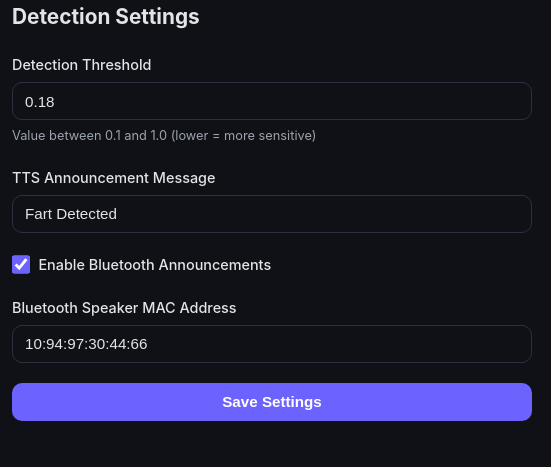
Test: SettingsForm component › edge case: shows error when TTS message is empty
Step 1. Clear the field labelled "TTS Announcement Message" → (272, 214), box [12,195,532,233]
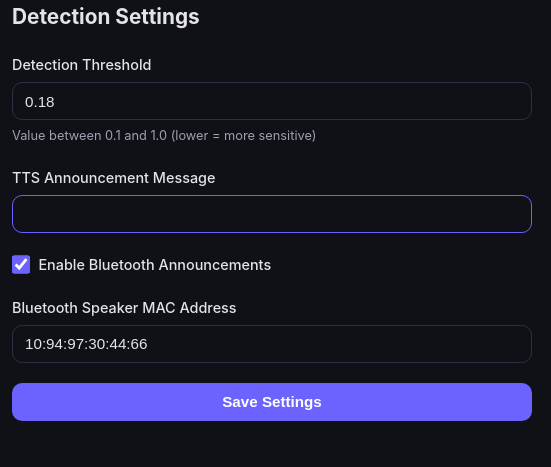
Step 2. Click the button "Save Settings" → (272, 402), box [12,383,532,421]
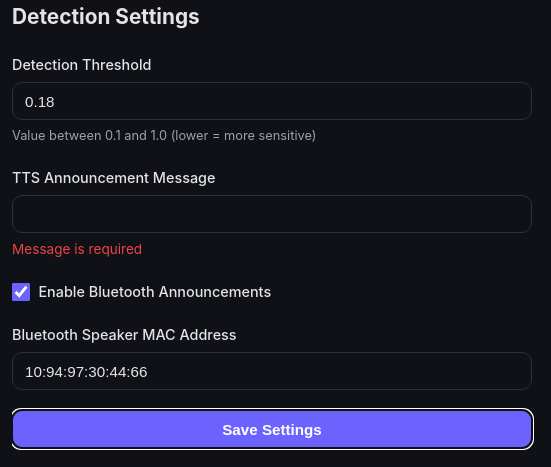
Expected: the text "Message is required" is shown, [12,241,142,257]
